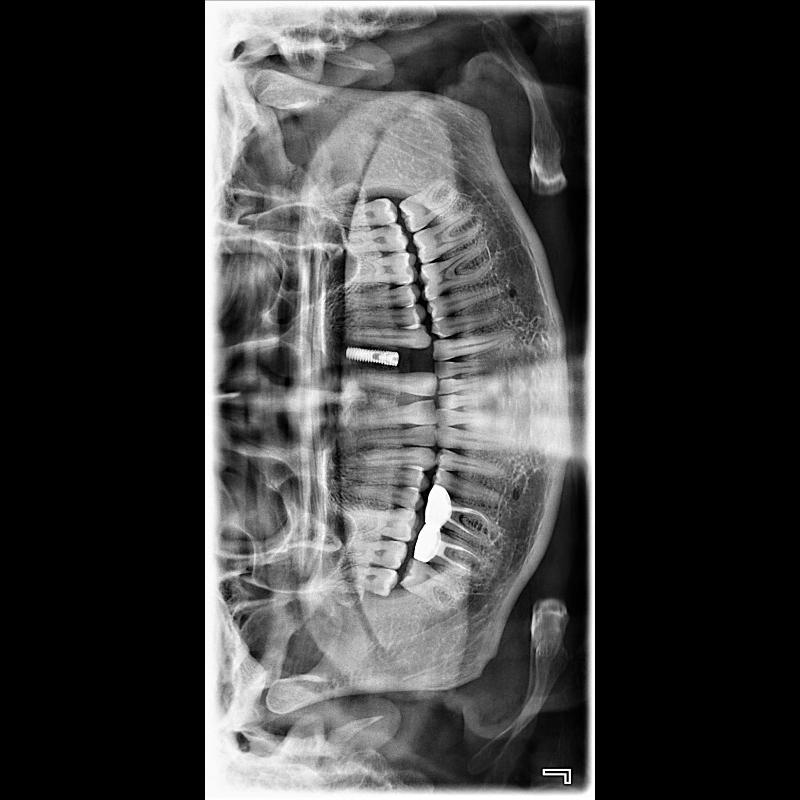osstem: (344, 346, 400, 370)
